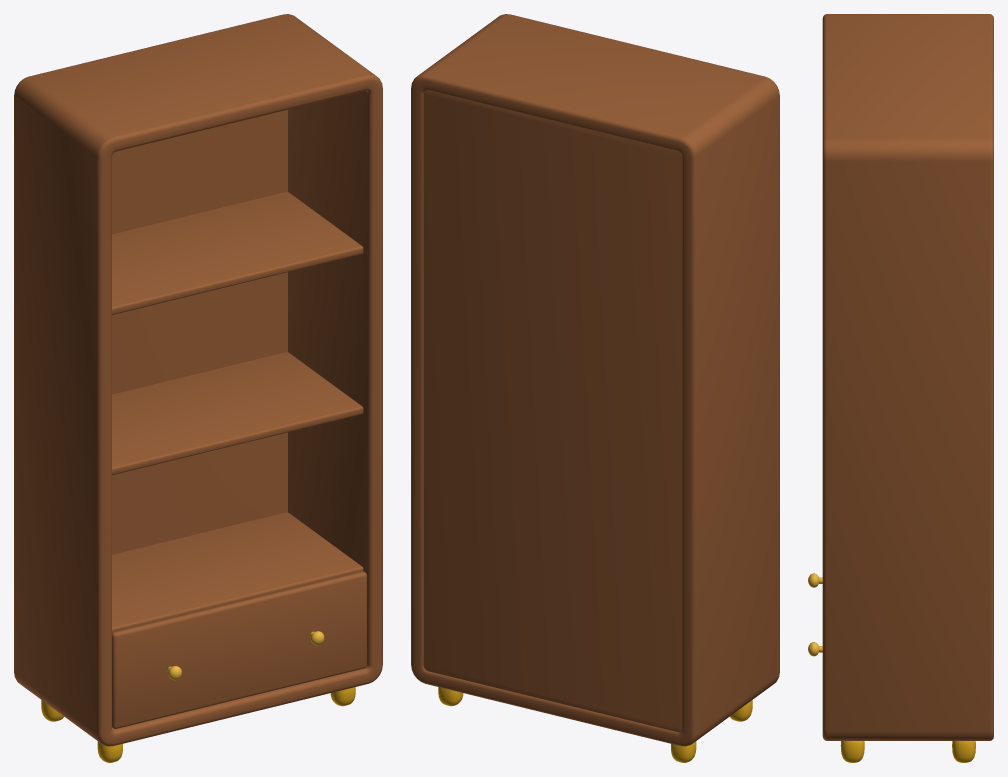
Rendered from armario_estante_gaveta_madeira.glb.
3 renders of one model, left to right at view 1: azimuth 30°, elevation 25°; view 2: azimuth 150°, elevation 25°; view 3: azimuth 270°, elevation 25°, orthographic.
Visible parts, largest first — view 1: armario_estante_gaveta_madeira, gaveta_1; view 2: armario_estante_gaveta_madeira; view 3: armario_estante_gaveta_madeira.
Boxes of the visible parts, x1=… form: armario_estante_gaveta_madeira: x1=14, y1=14, x2=382, y2=762; gaveta_1: x1=112, y1=571, x2=366, y2=728; armario_estante_gaveta_madeira: x1=411, y1=14, x2=779, y2=762; armario_estante_gaveta_madeira: x1=822, y1=14, x2=993, y2=762.
Bounding box in the file's own units: 0.76 × 1.62 × 0.4346.
1 material, 1 textured.
